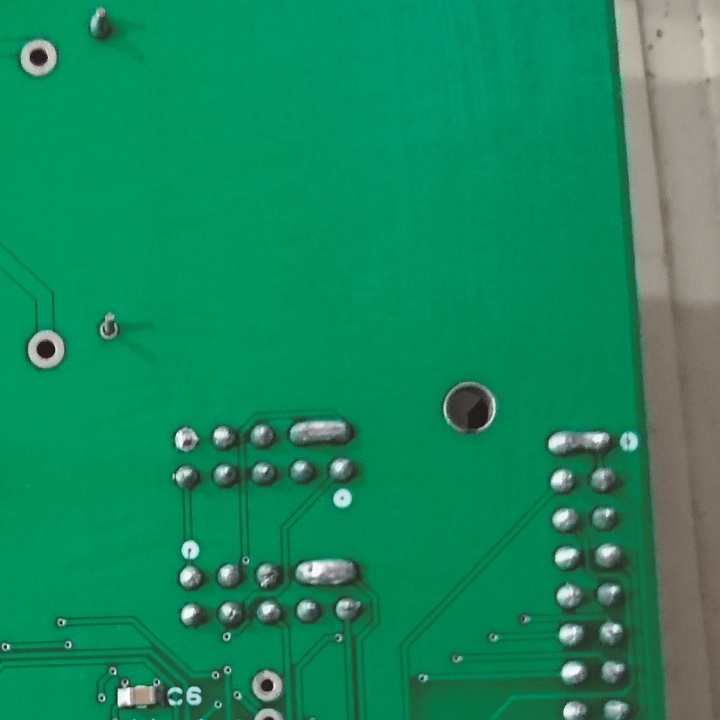F: (15, 38, 60, 82), (27, 326, 69, 372), (247, 666, 288, 704), (171, 423, 199, 458), (95, 308, 121, 343)
P: (284, 416, 359, 448), (544, 429, 619, 458), (293, 555, 363, 585)
